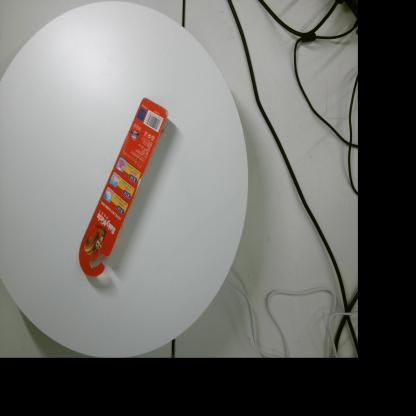Personal Hygiene: (78, 97, 168, 277)
